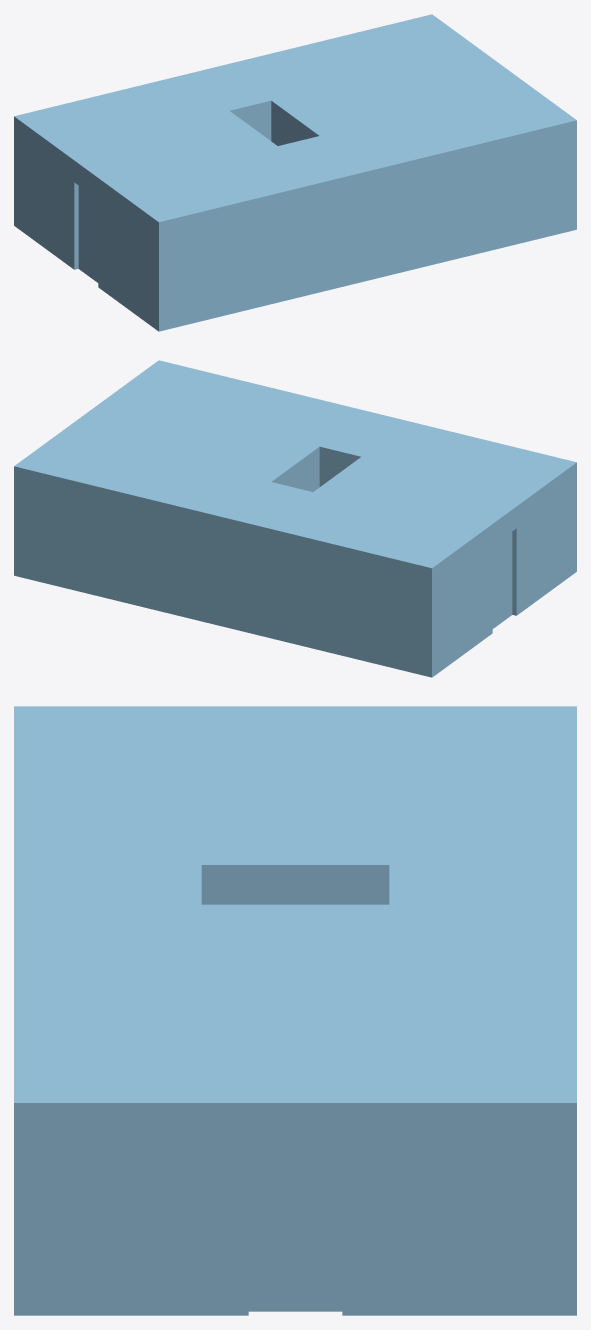
File: 10x6_inner.dae
3 renders of one model, top to bottom at view 1: azimuth 30°, elevation 25°; view 2: azimuth 150°, elevation 25°; view 3: azimuth 270°, elevation 25°, orthographic. The views are drawn at different scales.
Visible parts, largest first — view 1: 5d14ebed8bc86e1753ea2846; view 2: 5d14ebed8bc86e1753ea2846; view 3: 5d14ebed8bc86e1753ea2846.
Boxes of the visible parts, bbox=[...] form: 5d14ebed8bc86e1753ea2846: bbox=[14, 14, 576, 331]; 5d14ebed8bc86e1753ea2846: bbox=[14, 360, 576, 677]; 5d14ebed8bc86e1753ea2846: bbox=[14, 706, 576, 1315].
Bounding box in the file's own units: 10 × 6 × 2.5.
